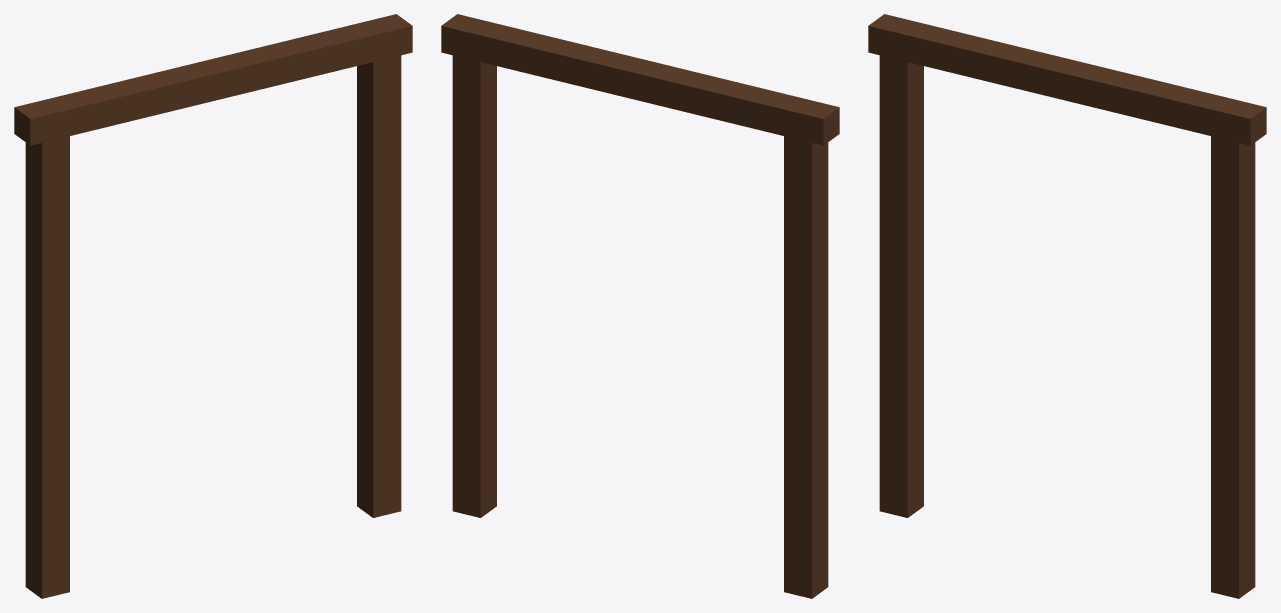
The model's file is Stage_Timber.fbx.
The picture shows the model from 3 angles, left to right: view 1: azimuth 30°, elevation 25°; view 2: azimuth 150°, elevation 25°; view 3: azimuth 330°, elevation 25°; orthographic projection.
Parts seen in each view (by area): view 1: CrestPost-1.001; view 2: CrestPost-1.001; view 3: CrestPost-1.001.
Boxes of the visible parts, x1,y1,x2,y2 form: CrestPost-1.001: [14, 14, 412, 598]; CrestPost-1.001: [441, 14, 839, 598]; CrestPost-1.001: [868, 14, 1266, 598].
Bounding box in the file's own units: 3000 × 3620 × 220.
